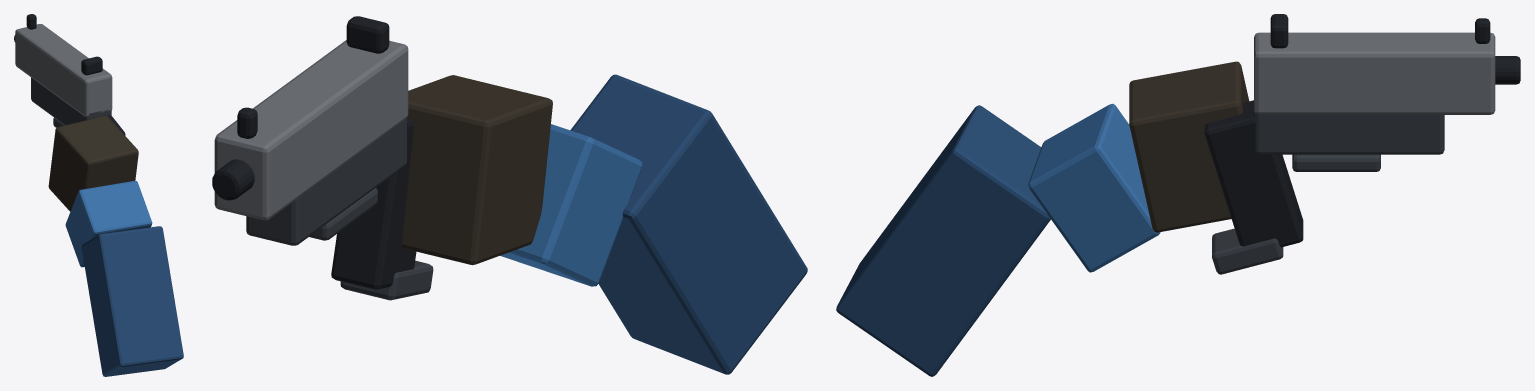
3 views of the same model, side by side, from view 1: azimuth 30°, elevation 25°; view 2: azimuth 150°, elevation 25°; view 3: azimuth 270°, elevation 25° (orthographic). The views are drawn at different scales.
Parts seen in each view (by area): view 1: fp_pg; view 2: fp_pg; view 3: fp_pg.
Boxes of the visible parts, <box> form: fp_pg: <box>14,14,183,376</box>; fp_pg: <box>212,16,807,374</box>; fp_pg: <box>836,14,1520,376</box>.
Size of the model in its own units: 0.1681 by 0.3319 by 0.539.
